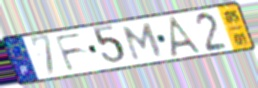2: (195, 10, 230, 53)
5: (90, 23, 129, 67)
7: (28, 33, 58, 80)
A: (168, 14, 206, 58)
F: (52, 30, 85, 73)
M: (121, 21, 165, 63)
